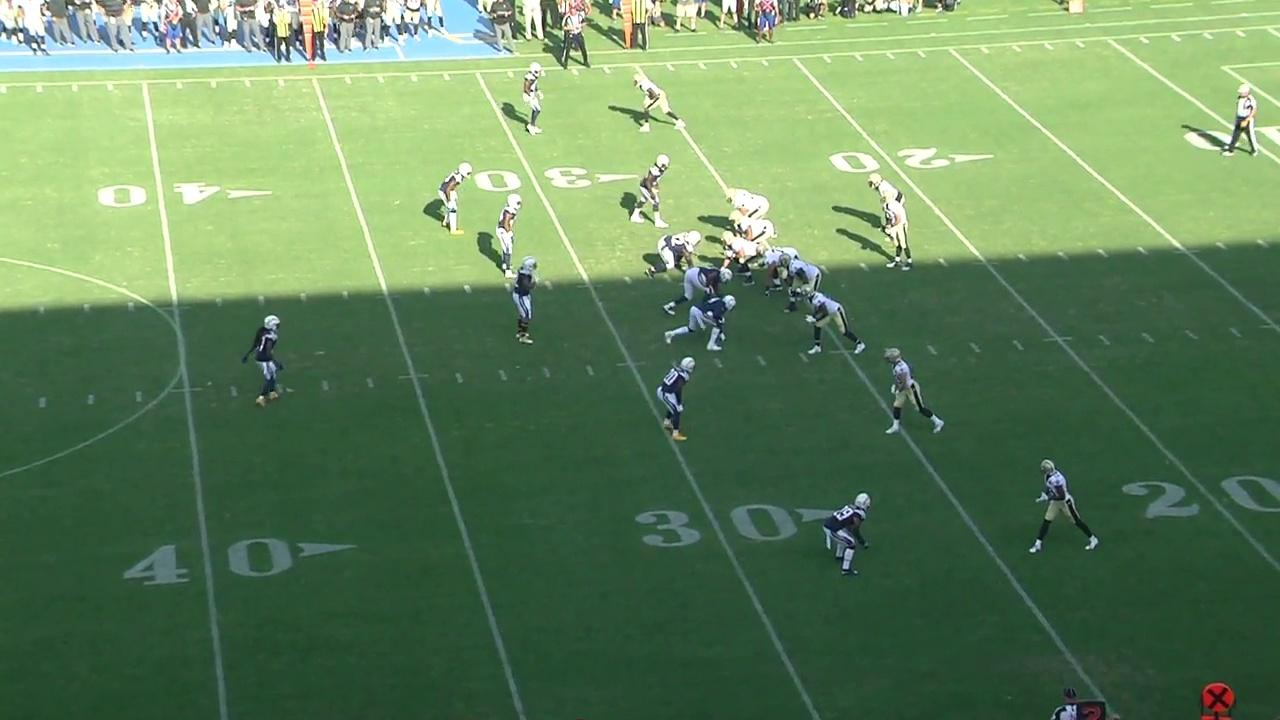player: (1027, 457, 1099, 562), (876, 345, 947, 436), (827, 487, 876, 575), (804, 288, 865, 352), (665, 297, 737, 351), (662, 263, 734, 316), (632, 72, 689, 135), (250, 313, 286, 406), (659, 358, 696, 444), (628, 154, 671, 227), (779, 253, 822, 314), (880, 195, 914, 270), (652, 228, 704, 277), (720, 231, 766, 286), (439, 163, 473, 236), (513, 256, 540, 343), (756, 246, 798, 295), (498, 190, 522, 275), (523, 63, 547, 137), (726, 186, 769, 217), (730, 215, 778, 241), (868, 174, 906, 204)
ref: (1224, 83, 1262, 158), (558, 5, 590, 70)
